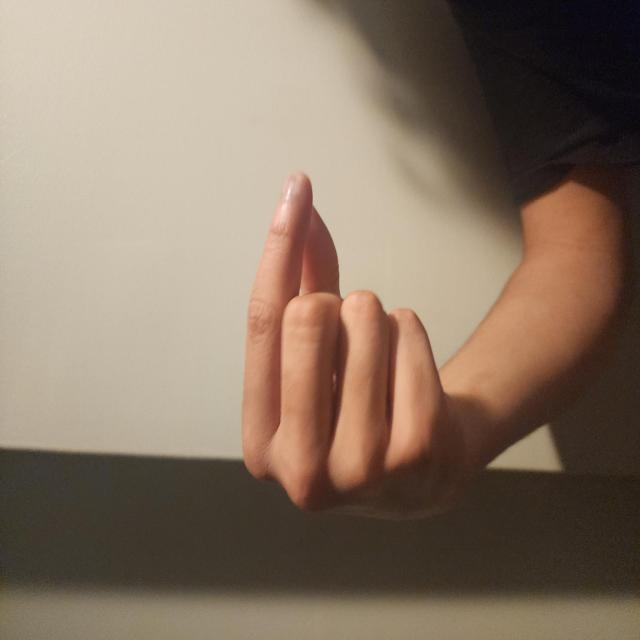Q: (88, 318, 354, 614)
